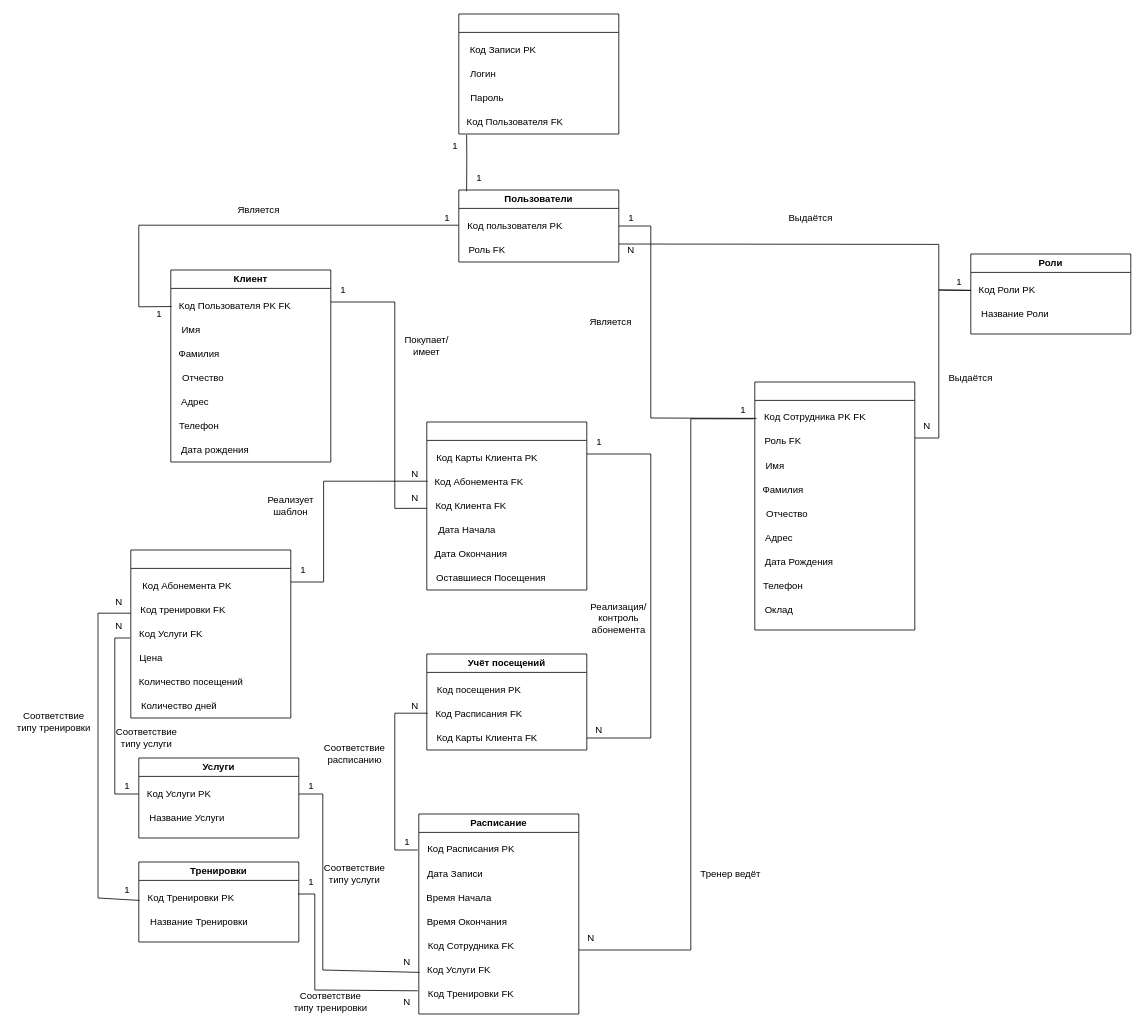
The diagram is 1145 pixels wide and 1036 high, and some of its shapes have lost their labels. Each missing label, with the box of its shape:
Абонементы: (130, 549, 291, 718)
Пароли и Логины: (458, 13, 619, 134)
Продажа абонементов: (426, 421, 587, 590)
Сотрудники: (754, 381, 915, 630)
